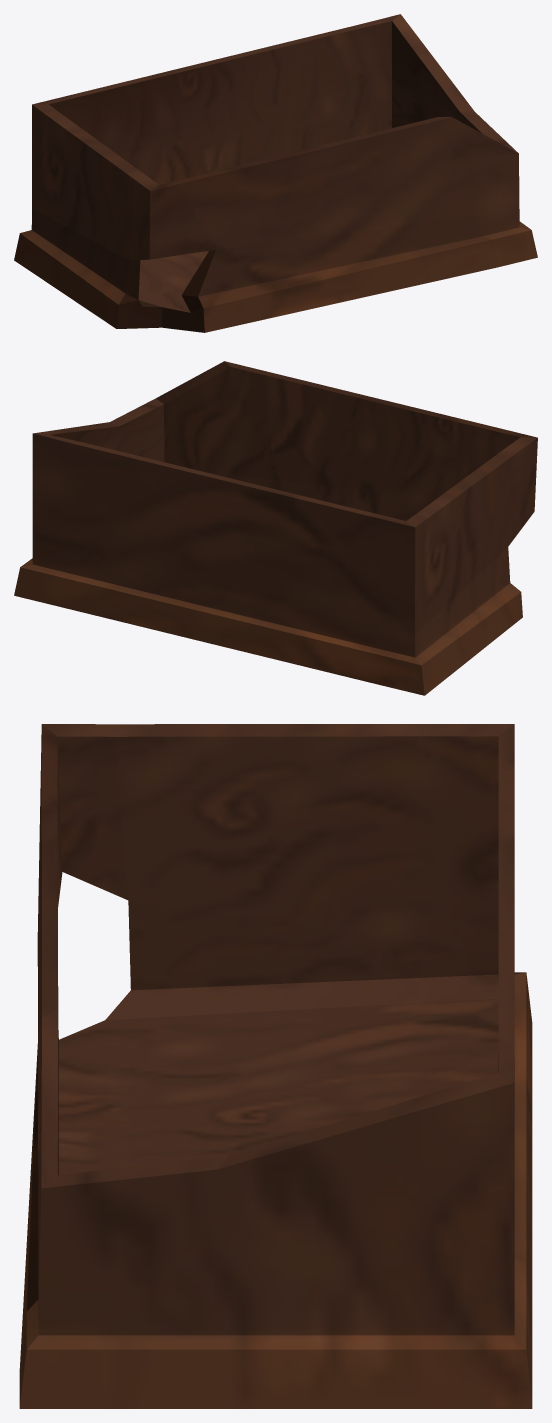
Rendered from Caixa_4_quebrada.glb.
3 views of the same model, one above another, from view 1: azimuth 30°, elevation 25°; view 2: azimuth 150°, elevation 25°; view 3: azimuth 270°, elevation 25° (orthographic). The views are drawn at different scales.
Visible parts, largest first — view 1: Caixa.4.quebrada; view 2: Caixa.4.quebrada; view 3: Caixa.4.quebrada.
Boxes of the visible parts, <box> form: Caixa.4.quebrada: <box>14,14,537,332</box>; Caixa.4.quebrada: <box>14,361,537,695</box>; Caixa.4.quebrada: <box>19,724,532,1408</box>.
Bounding box in the file's own units: 1.43 × 0.5397 × 0.8012.
Materials: 1 (1 with a texture image).
